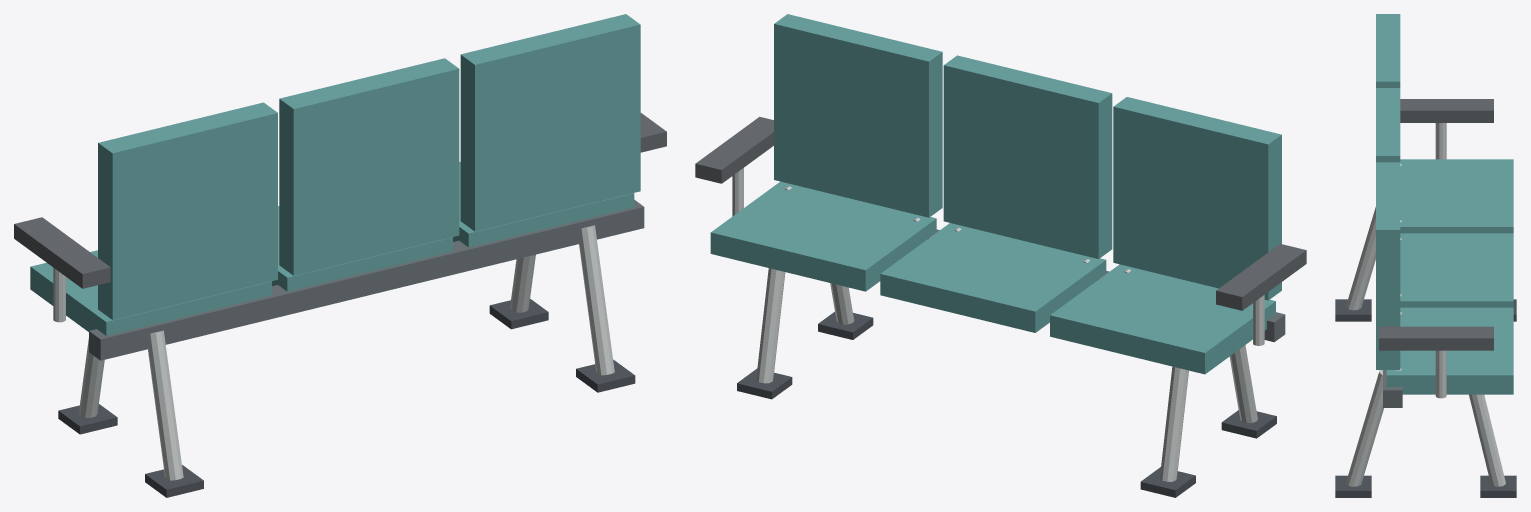
The model's file is bench_a.fbx.
The picture shows the model from 3 angles, left to right: view 1: azimuth 30°, elevation 25°; view 2: azimuth 150°, elevation 25°; view 3: azimuth 270°, elevation 25°; orthographic projection. The views are drawn at different scales.
Visible parts, largest first — view 1: bench_a; view 2: bench_a; view 3: bench_a.
Part boxes in pixels (x1=…): bench_a: x1=14, y1=14, x2=666, y2=497; bench_a: x1=695, y1=14, x2=1306, y2=497; bench_a: x1=1335, y1=14, x2=1516, y2=497.
Size of the model in its own units: 1.87 by 1.02 by 0.6.
